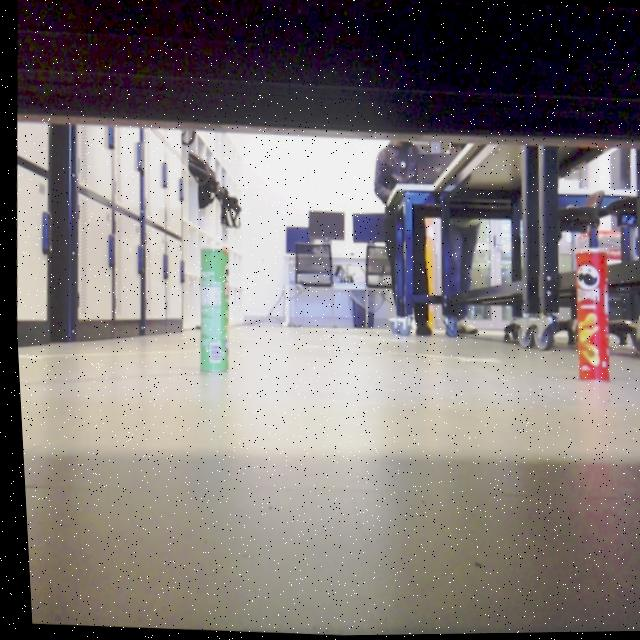greenpringles: (176, 228, 239, 385)
redpringles: (553, 226, 621, 398)
